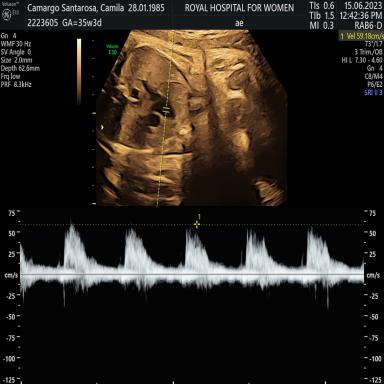Ultrasound-Waves: (22, 211, 364, 376)
